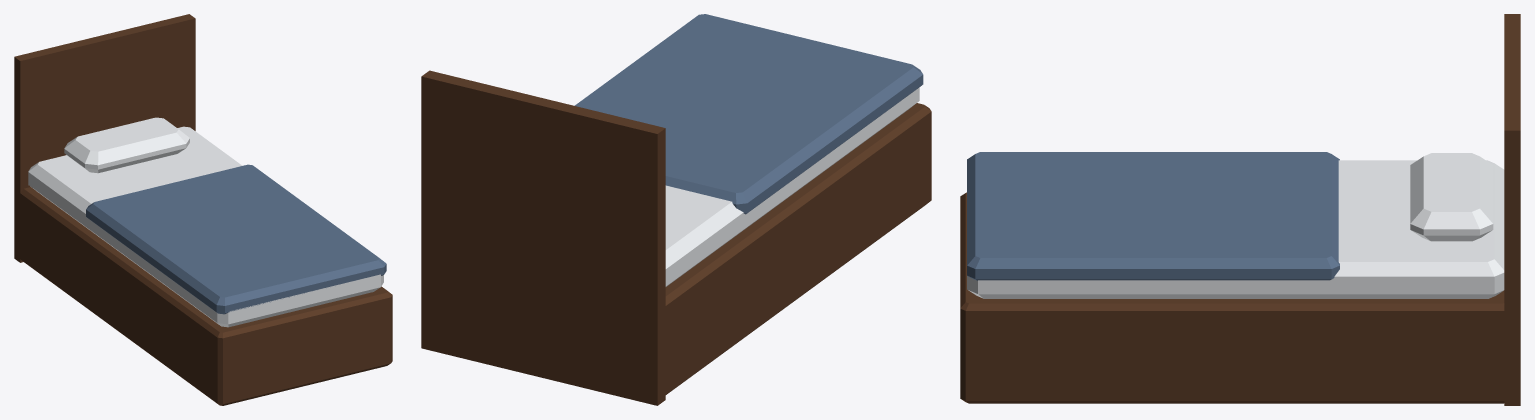
The model's file is bed_single.glb.
3 views of the same model, side by side, from view 1: azimuth 30°, elevation 25°; view 2: azimuth 150°, elevation 25°; view 3: azimuth 270°, elevation 25° (orthographic). The views are drawn at different scales.
Visible parts, largest first — view 1: bed_single; view 2: bed_single; view 3: bed_single.
Boxes of the visible parts, bbox=[...] form: bed_single: bbox=[14, 14, 392, 405]; bed_single: bbox=[421, 14, 931, 405]; bed_single: bbox=[960, 14, 1520, 405].
Size of the model in its own units: 1 by 1.1 by 2.03.
